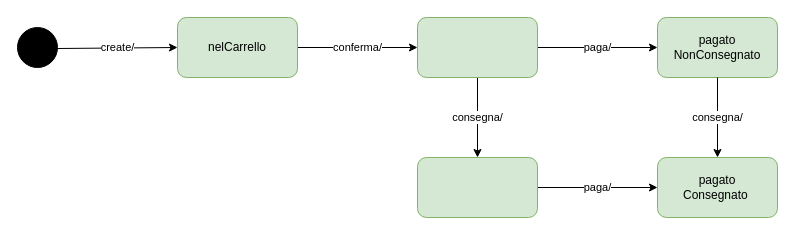
The diagram is 795 pixels wide and 235 high, and some of its shapes have lost their labels. Each missing label, with the centre of its shape:
confermato Consegnato: pixel 477 187
confermato NonConsegnato: pixel 477 47
